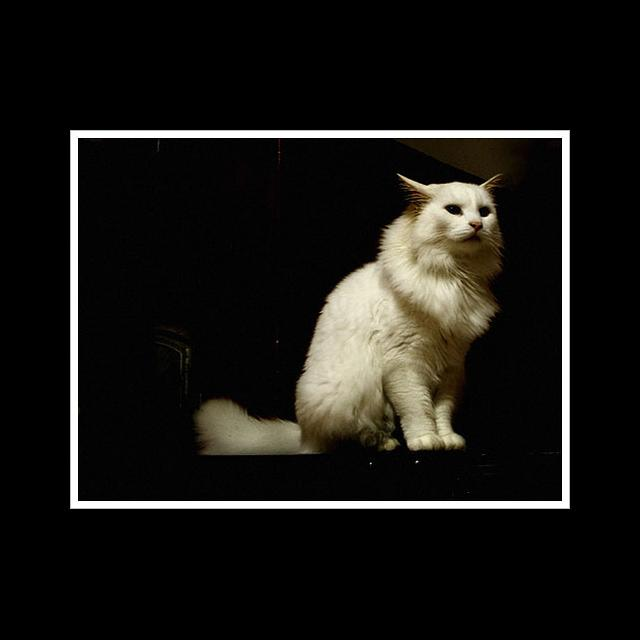animals: (399, 174, 501, 228)
